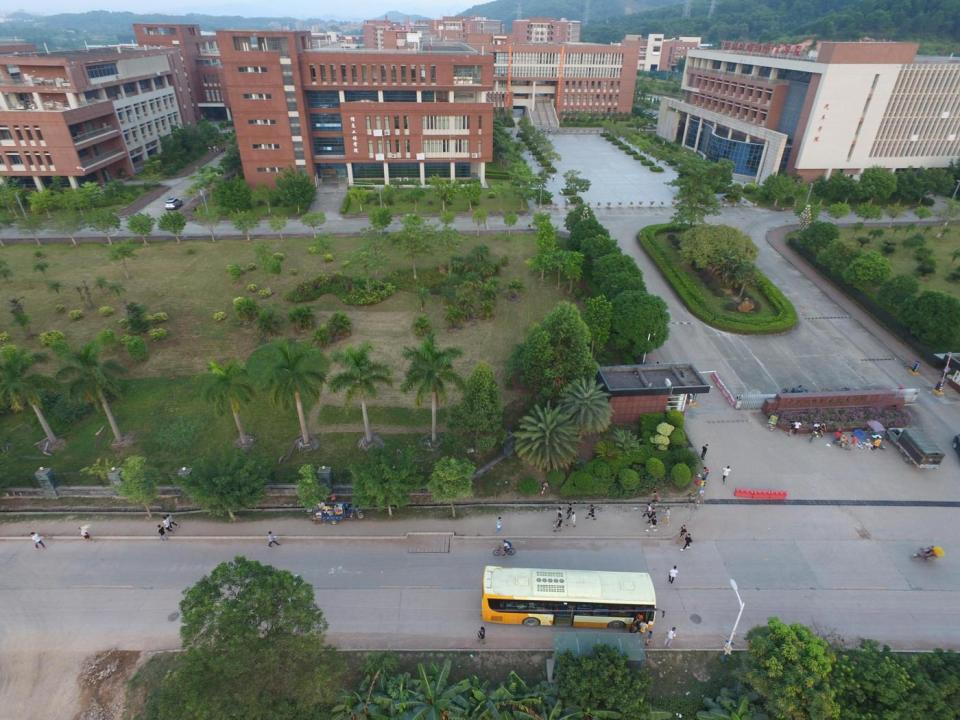bus: (481, 564, 657, 629)
car: (493, 545, 516, 556), (164, 198, 182, 211), (642, 124, 659, 129)
truck: (885, 428, 945, 468), (308, 501, 364, 525)
